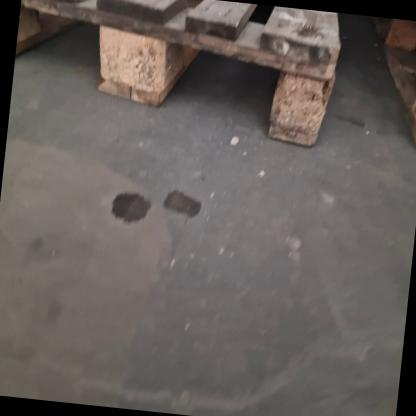BoxFace: (13, 0, 346, 158)
